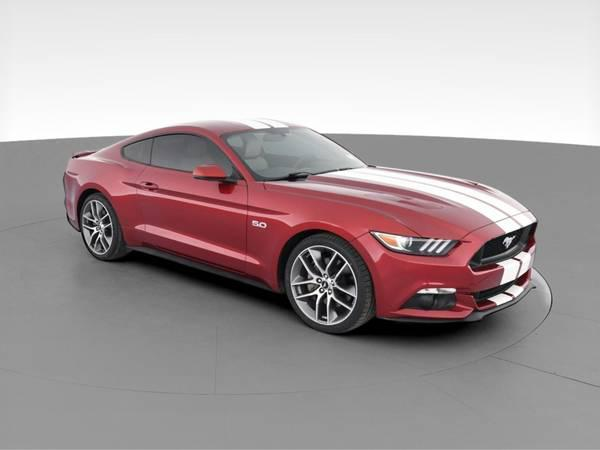Front_Bumper: (350, 233, 536, 321)
Front_Fender: (245, 181, 422, 292)
Front_Right_Door: (136, 164, 246, 278)
Front_Right_Window: (148, 131, 245, 180)
Front_Windshield: (224, 129, 371, 184)
Grille: (467, 222, 537, 273)
Hood: (269, 166, 540, 239)
Rear_Fender: (62, 139, 152, 249)
Right_Headlight: (370, 230, 464, 258)
Roof: (84, 117, 309, 181)
Wheel: (279, 234, 374, 335), (77, 194, 123, 261)
